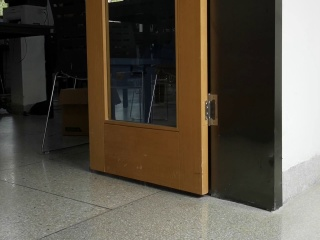room: (57, 4, 293, 209)
